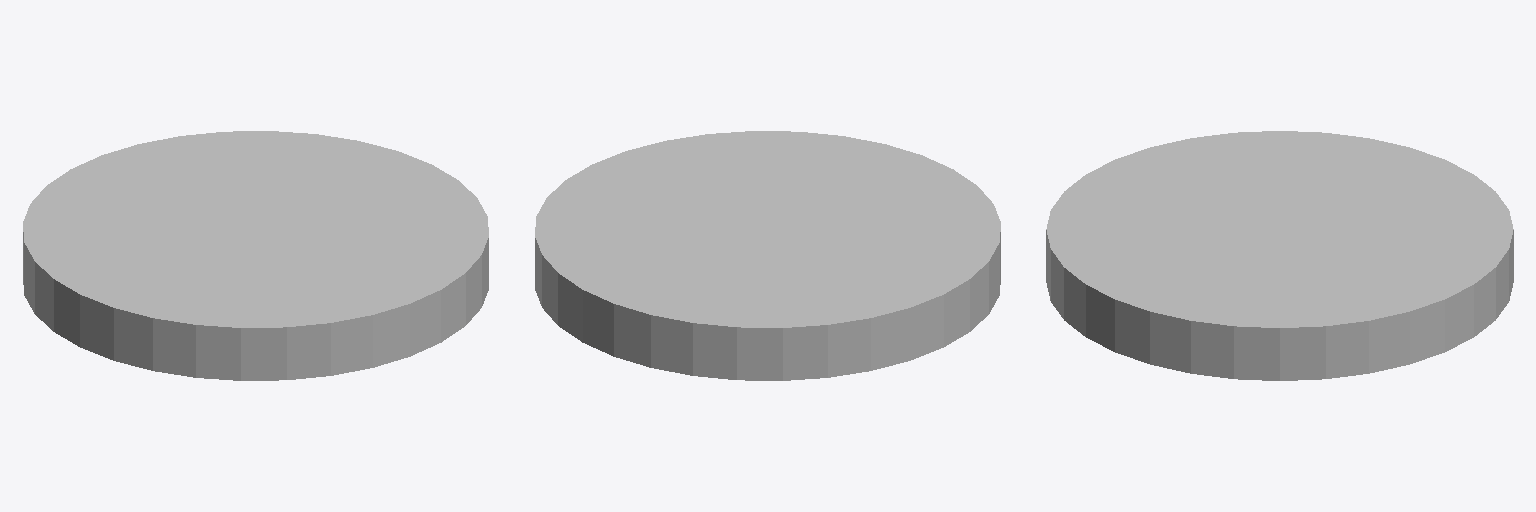
File: gamepiece.obj
3 views of the same model, side by side, from view 1: azimuth 30°, elevation 25°; view 2: azimuth 150°, elevation 25°; view 3: azimuth 270°, elevation 25° (orthographic).
Visible parts, largest first — view 1: Cylinder; view 2: Cylinder; view 3: Cylinder.
Part boxes in pixels (bbox=[...]): Cylinder: bbox=[23, 131, 488, 380]; Cylinder: bbox=[535, 131, 1000, 380]; Cylinder: bbox=[1046, 131, 1513, 380].
Bounding box in the file's own units: 1.6 × 0.2 × 1.6.